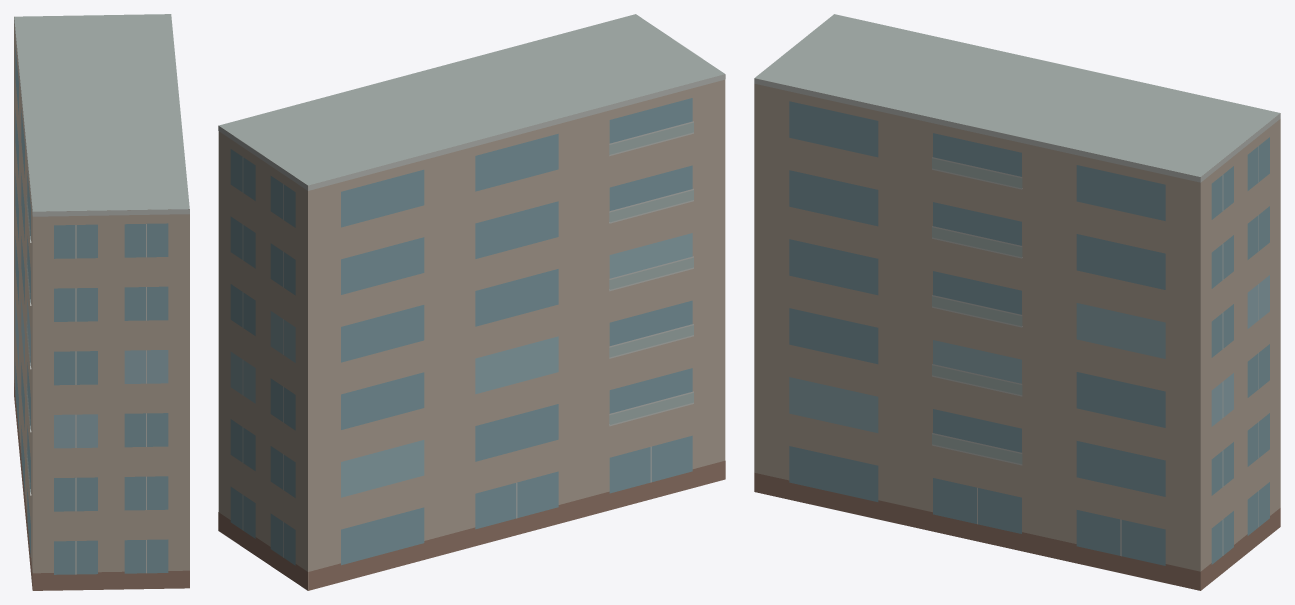
File: survey-upis-32537710.glb
3 renders of one model, left to right at view 1: azimuth 30°, elevation 25°; view 2: azimuth 150°, elevation 25°; view 3: azimuth 270°, elevation 25°, orthographic. The views are drawn at different scales.
Visible parts, largest first — view 1: survey-upis-32537710.tmp; view 2: survey-upis-32537710.tmp; view 3: survey-upis-32537710.tmp.
Boxes of the visible parts, left/top/right/bottom form: survey-upis-32537710.tmp: left=14, top=14, right=189, bottom=590; survey-upis-32537710.tmp: left=218, top=14, right=725, bottom=590; survey-upis-32537710.tmp: left=754, top=14, right=1280, bottom=590.
Size of the model in its own units: 15.48 by 18.3 by 21.1.
